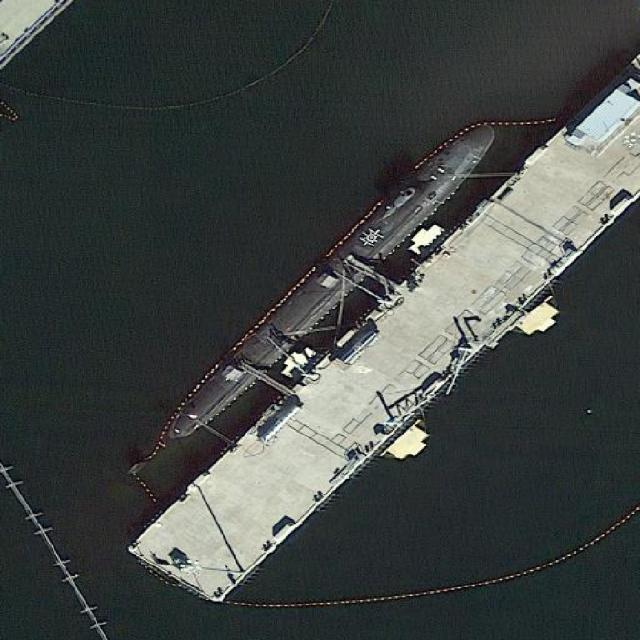Dock: (129, 121, 636, 621)
Submarine: (153, 105, 502, 455)
